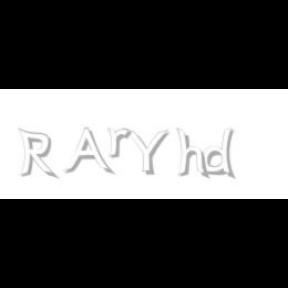A: (64, 128, 112, 176)
R: (18, 128, 56, 180)
Y: (123, 128, 169, 176)
d: (201, 128, 238, 180)
h: (177, 128, 212, 180)
r: (108, 128, 134, 158)
